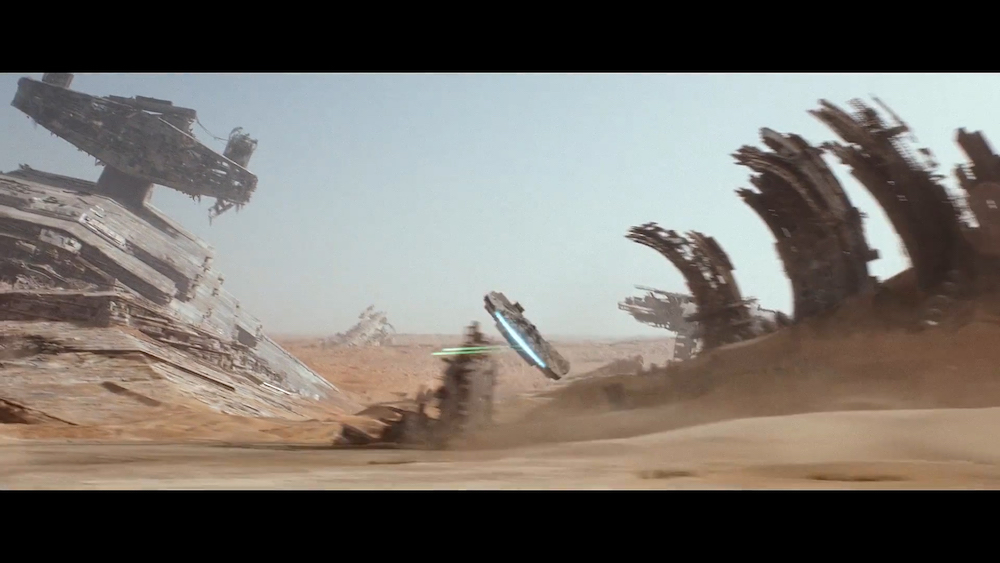Millennium Falcon: (482, 290, 574, 384)
